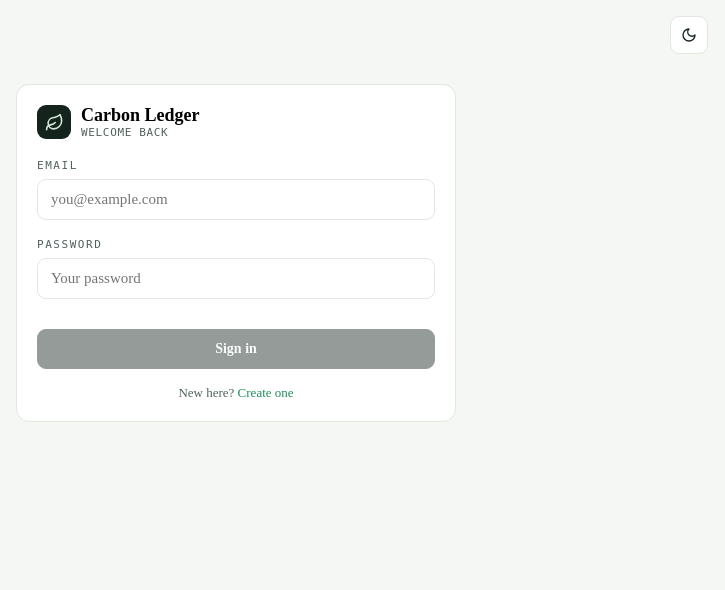
<Auth /> › switches to the register form and shows the country selector
Click the button "Create one" at (266, 393), box [238, 385, 294, 401]
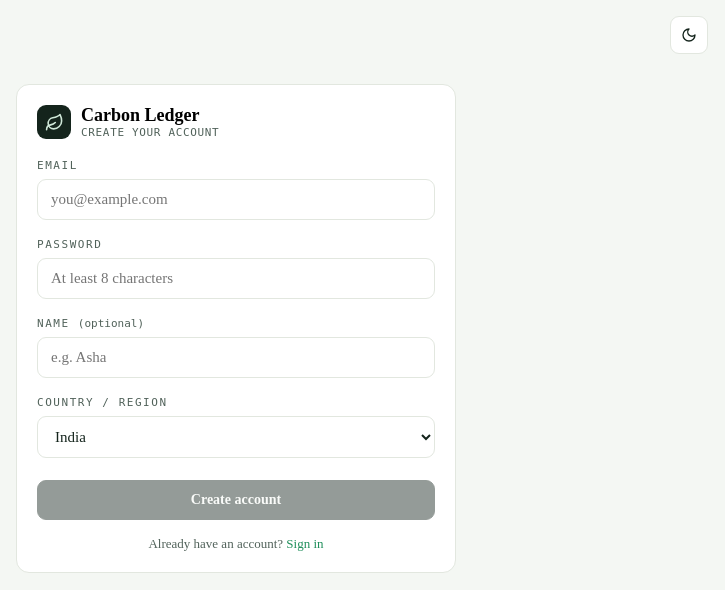
Result: the button "Create account" is shown at [37, 480, 435, 520]
Result: the dropdown labelled "Country / region" is shown at [37, 416, 435, 458]
